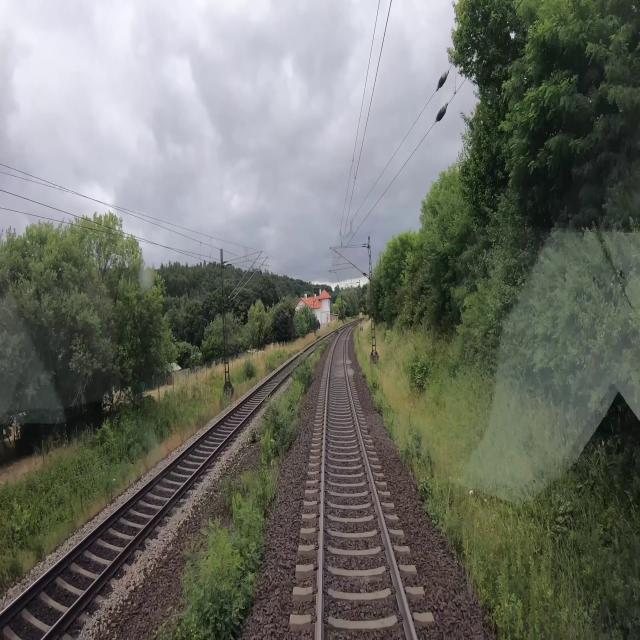Plant: (147, 331, 337, 639)
